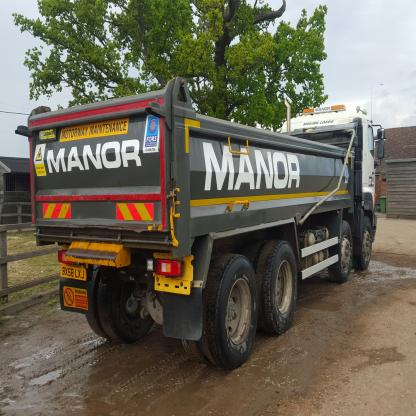dump_truck: (22, 78, 386, 386)
